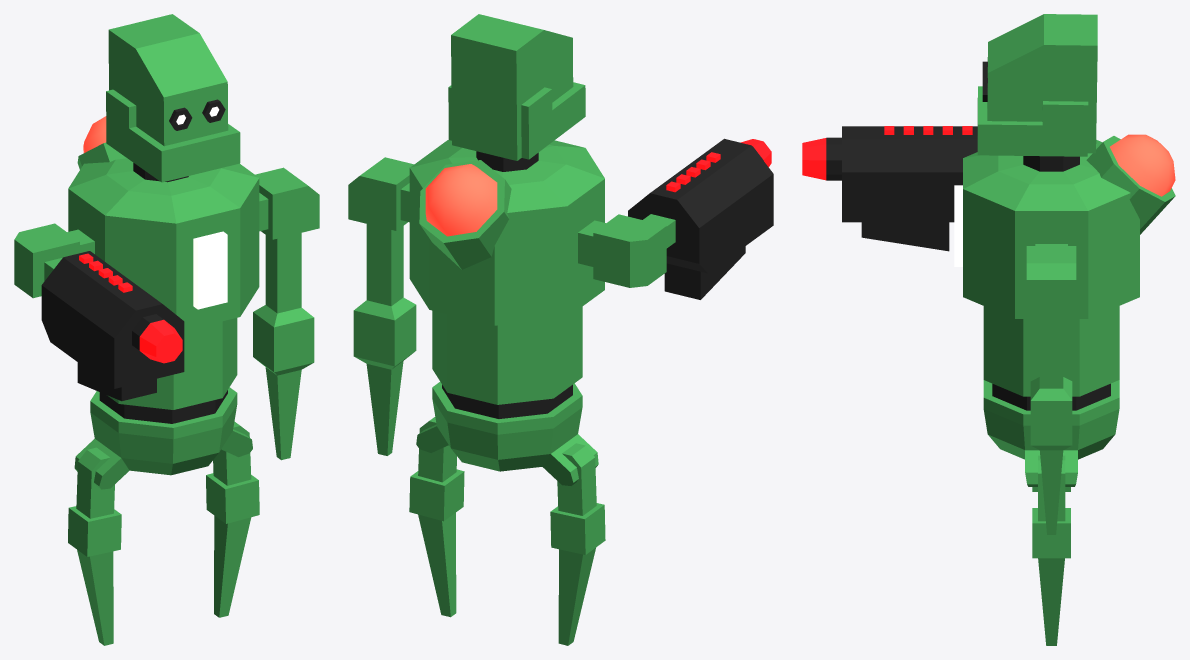
File: LaserBot.fbx
The picture shows the model from 3 angles, left to right: view 1: azimuth 30°, elevation 25°; view 2: azimuth 150°, elevation 25°; view 3: azimuth 270°, elevation 25°; orthographic projection. The views are drawn at different scales.
Visible parts, largest first — view 1: UpperBody, LowerBody, Laser, LeftArm, BotHealth; view 2: UpperBody, LowerBody, Laser, LeftArm, BotHealth; view 3: UpperBody, LowerBody, Laser, LeftArm, BotHealth.
Boxes of the visible parts, x1,y1,x2,y2 form: UpperBody: (68, 14, 259, 330); LowerBody: (68, 318, 259, 645); Laser: (14, 223, 184, 401); LeftArm: (253, 167, 319, 460); BotHealth: (83, 116, 106, 152); UpperBody: (409, 14, 604, 325); LowerBody: (409, 306, 605, 645); Laser: (578, 138, 773, 299); LeftArm: (348, 157, 416, 455); BotHealth: (425, 164, 497, 236); UpperBody: (954, 14, 1175, 318); LowerBody: (983, 306, 1119, 645); Laser: (802, 126, 977, 251); LeftArm: (1026, 244, 1076, 534); BotHealth: (1110, 134, 1175, 196).
Bounding box in the file's own units: 1.13 × 2.15 × 1.24.
